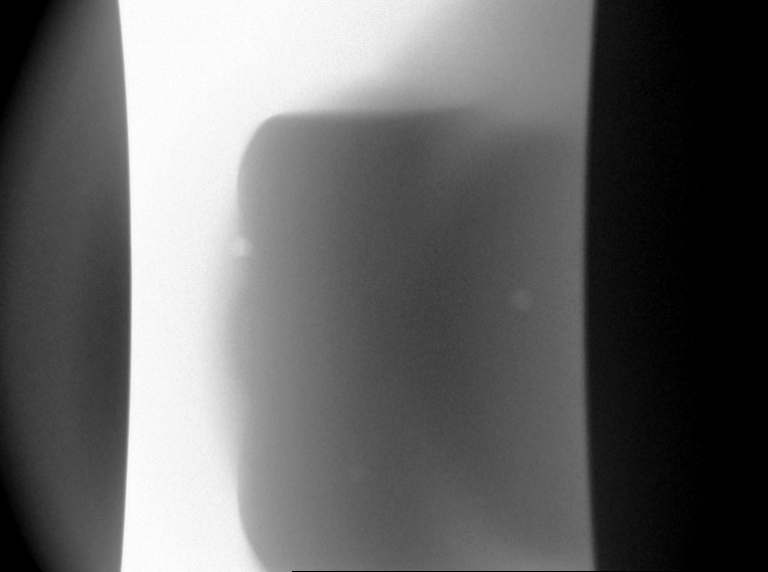defect: (229, 235, 254, 259)
